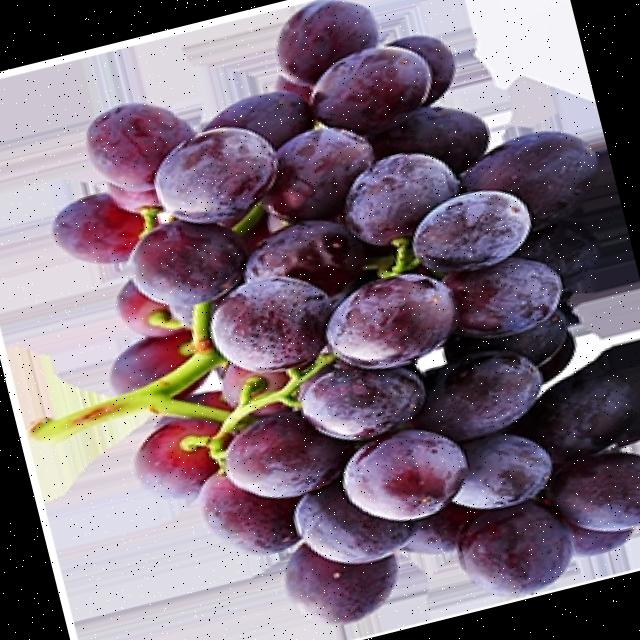grape: (31, 0, 640, 622)
